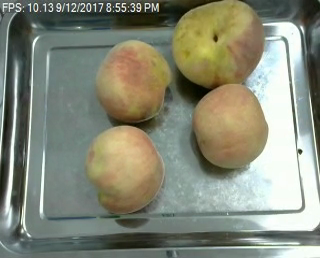Peach: (172, 0, 262, 87), (84, 124, 165, 214), (192, 83, 268, 169), (95, 38, 171, 122)
